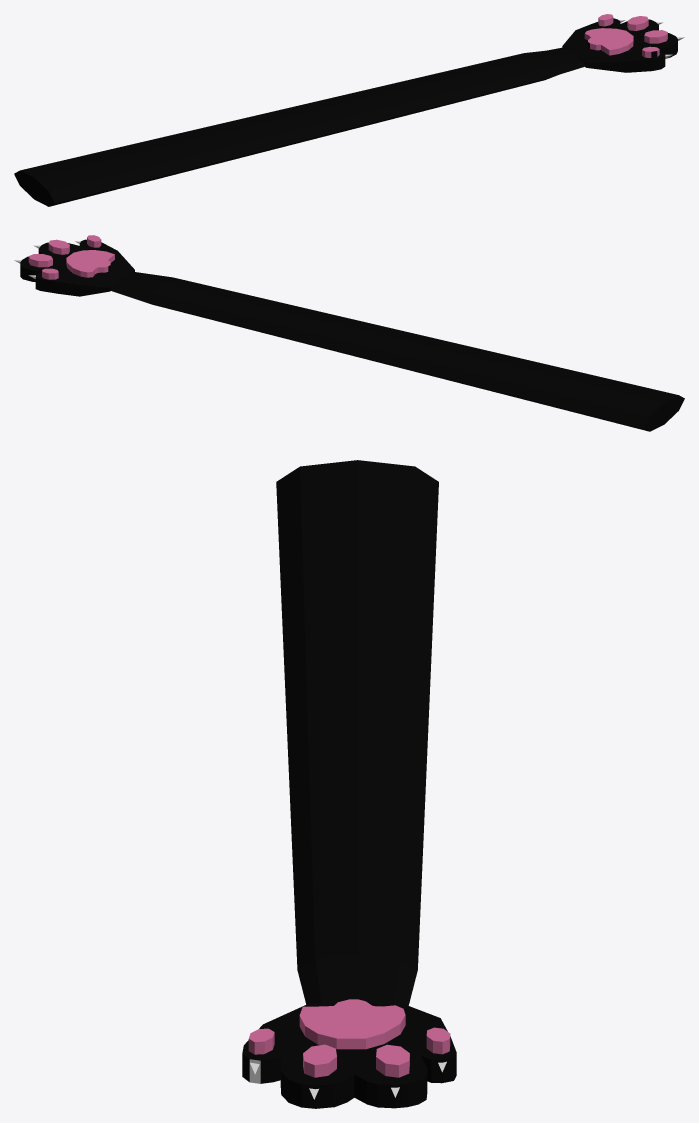
File: lapka7.fbx
3 views of the same model, one above another, from view 1: azimuth 30°, elevation 25°; view 2: azimuth 150°, elevation 25°; view 3: azimuth 270°, elevation 25° (orthographic). The views are drawn at different scales.
Visible parts, largest first — view 1: Circle.007; view 2: Circle.007; view 3: Circle.007.
Part boxes in pixels (bbox=[...]): Circle.007: bbox=[14, 14, 684, 206]; Circle.007: bbox=[14, 235, 684, 431]; Circle.007: bbox=[242, 460, 456, 1108].
Size of the model in its own units: 159 by 5.53 by 23.03.
